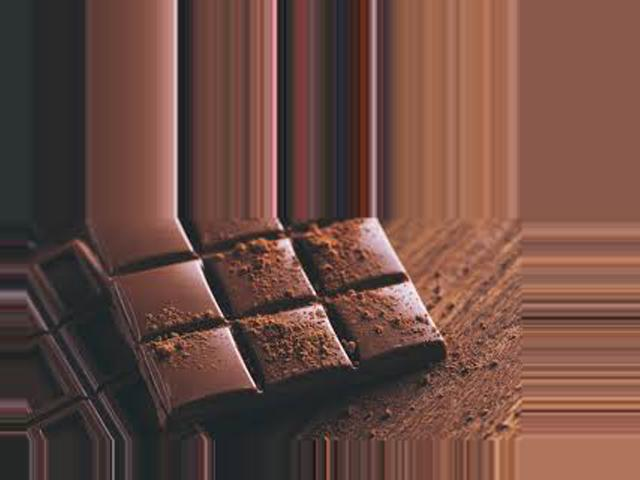chocolate: (82, 219, 461, 420)
